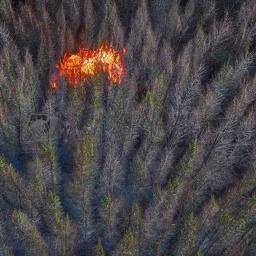Medium fire: (44, 43, 131, 91)
